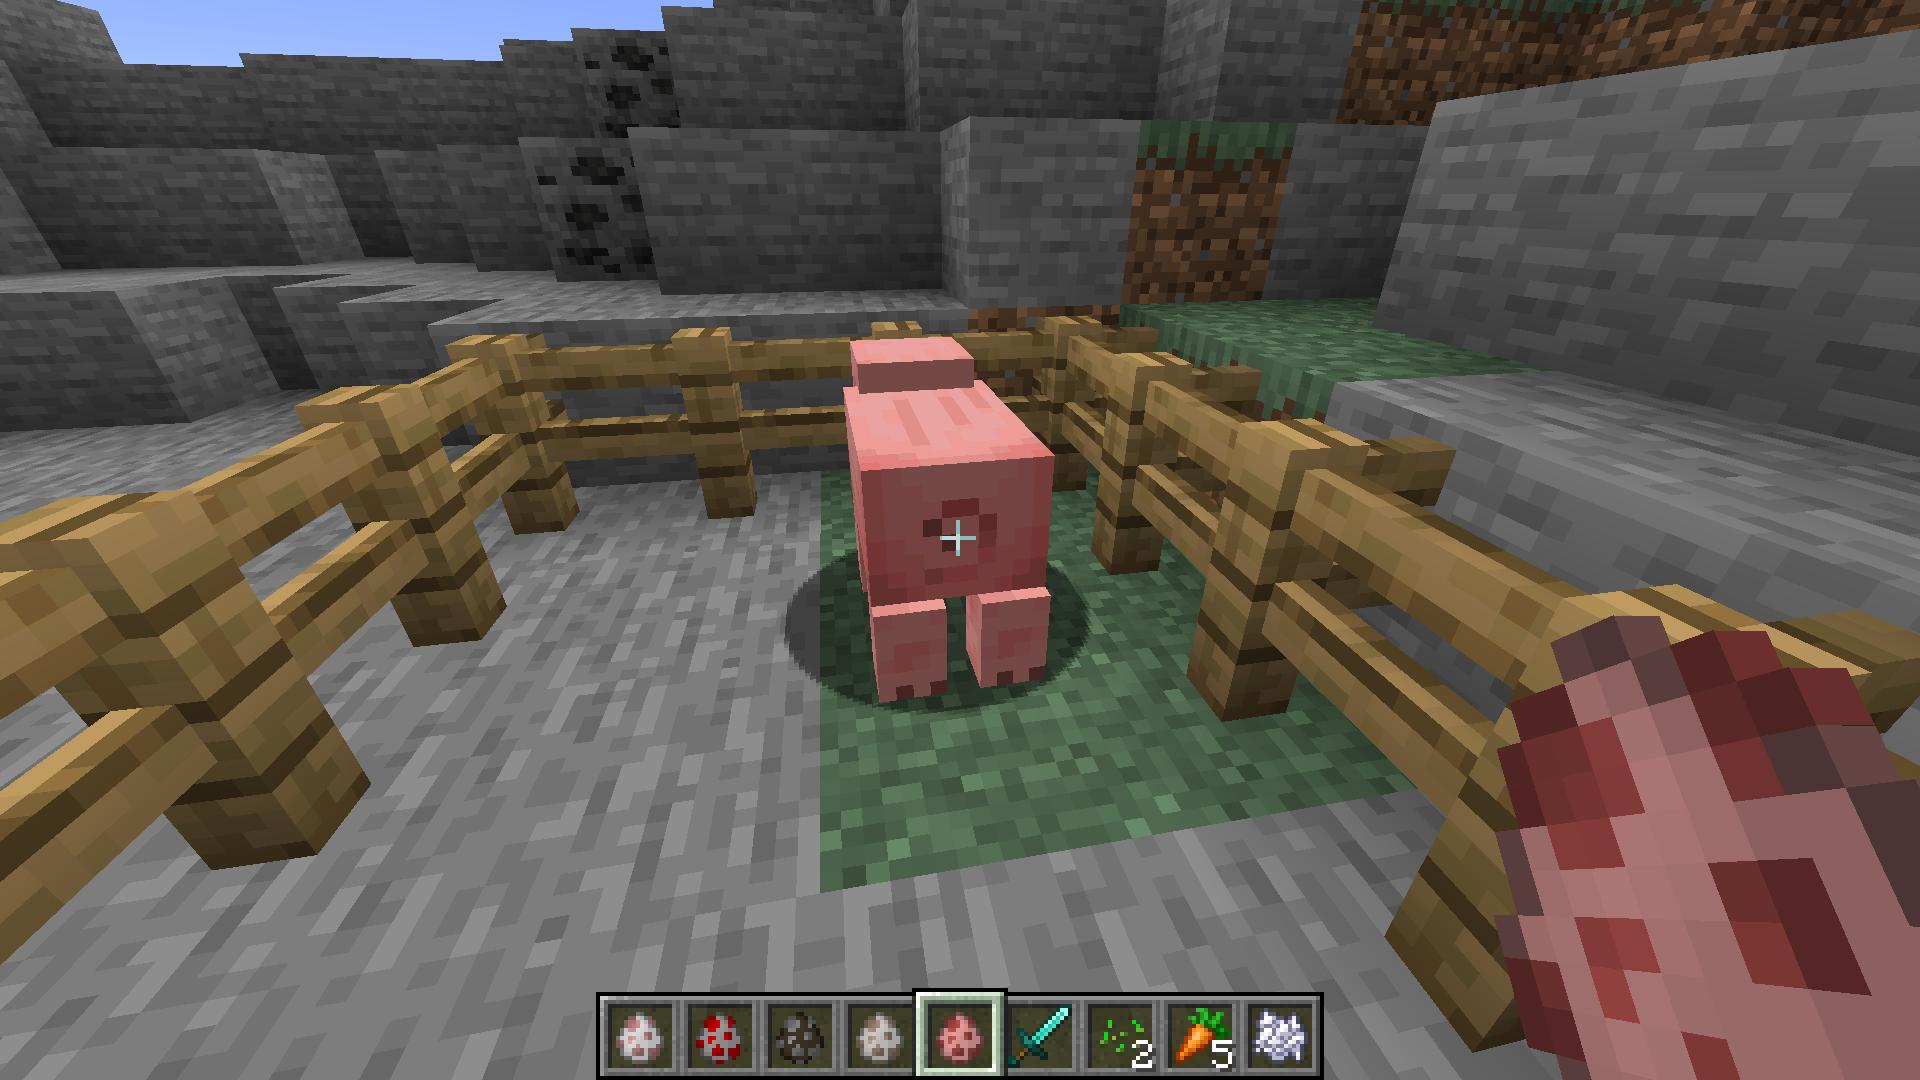pig: (840, 330, 1062, 716)
